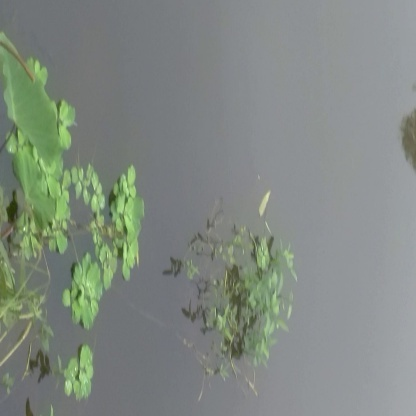grass: (174, 213, 312, 390)
